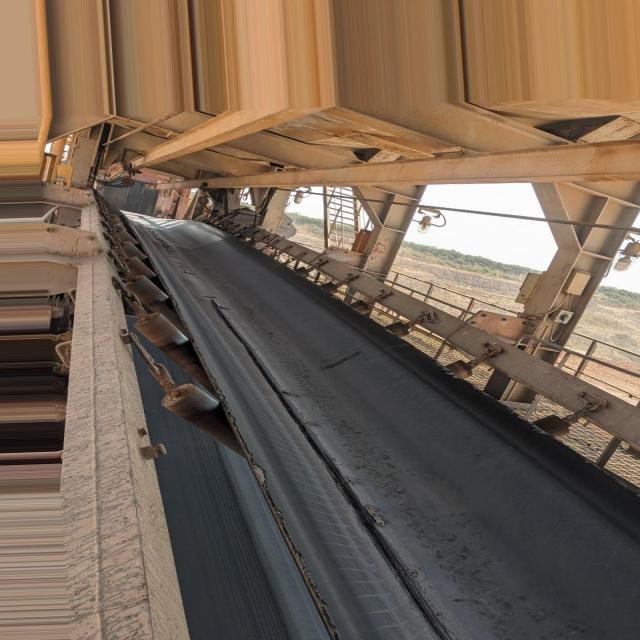Roller: (167, 375, 244, 463), (129, 317, 207, 377)
Tear: (211, 300, 456, 640)
